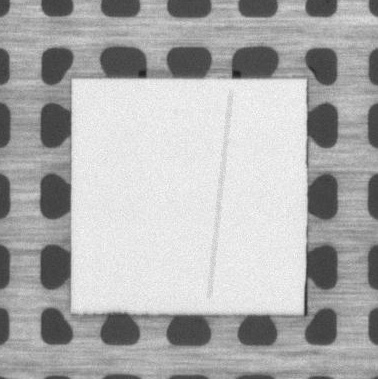DIE_CRACK: (208, 92, 230, 299)
